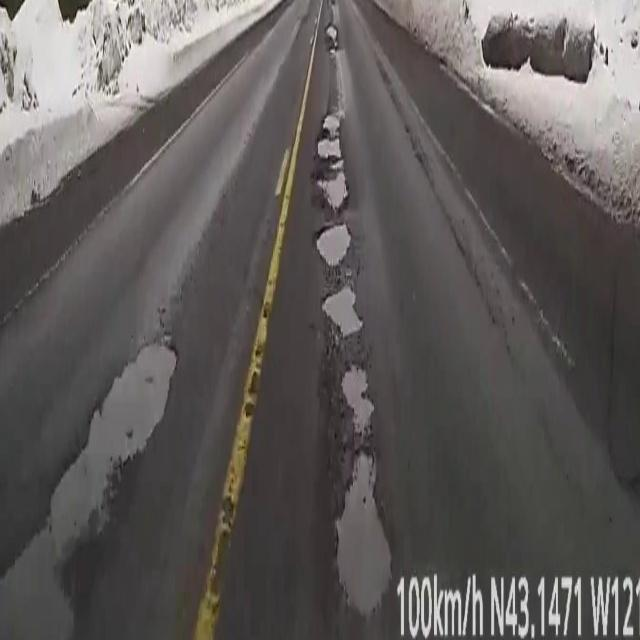pothole: (0, 340, 180, 640), (332, 441, 396, 620), (316, 110, 351, 267), (341, 366, 373, 436), (324, 288, 361, 333), (316, 222, 351, 266), (326, 26, 338, 44)
